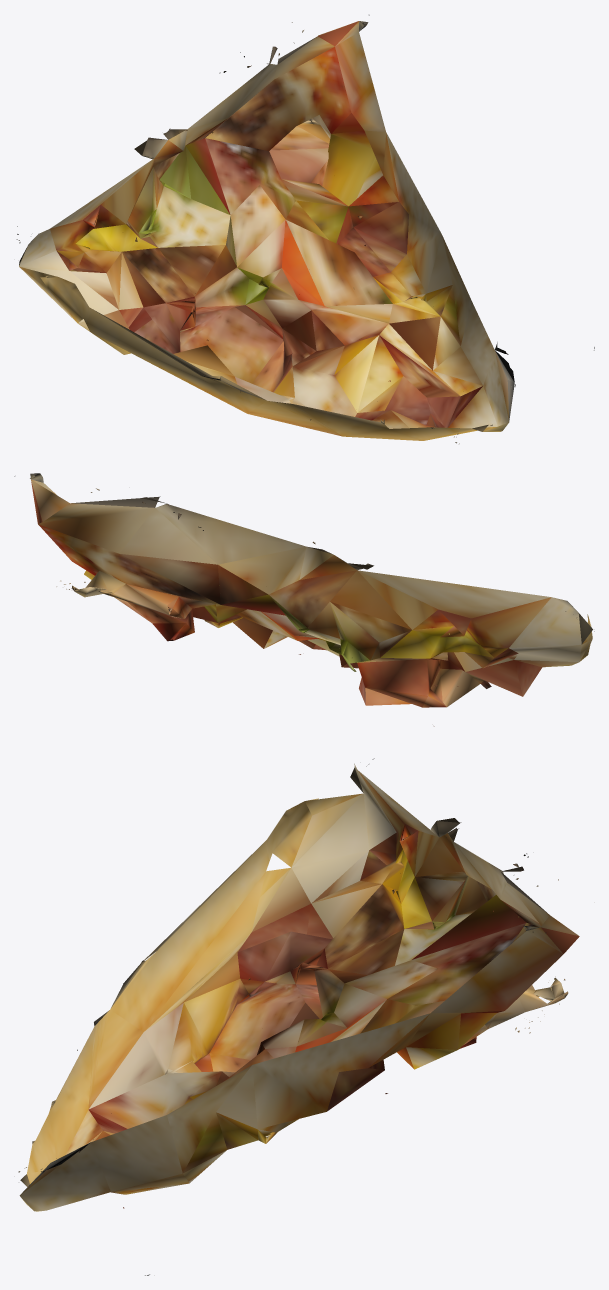
The model's file is pizza_1186.obj.
3 views of the same model, one above another, from view 1: azimuth 30°, elevation 25°; view 2: azimuth 150°, elevation 25°; view 3: azimuth 270°, elevation 25° (orthographic). The views are drawn at different scales.
Size of the model in its own units: 1.61 by 0.811 by 1.27.
1 material, 1 textured.
